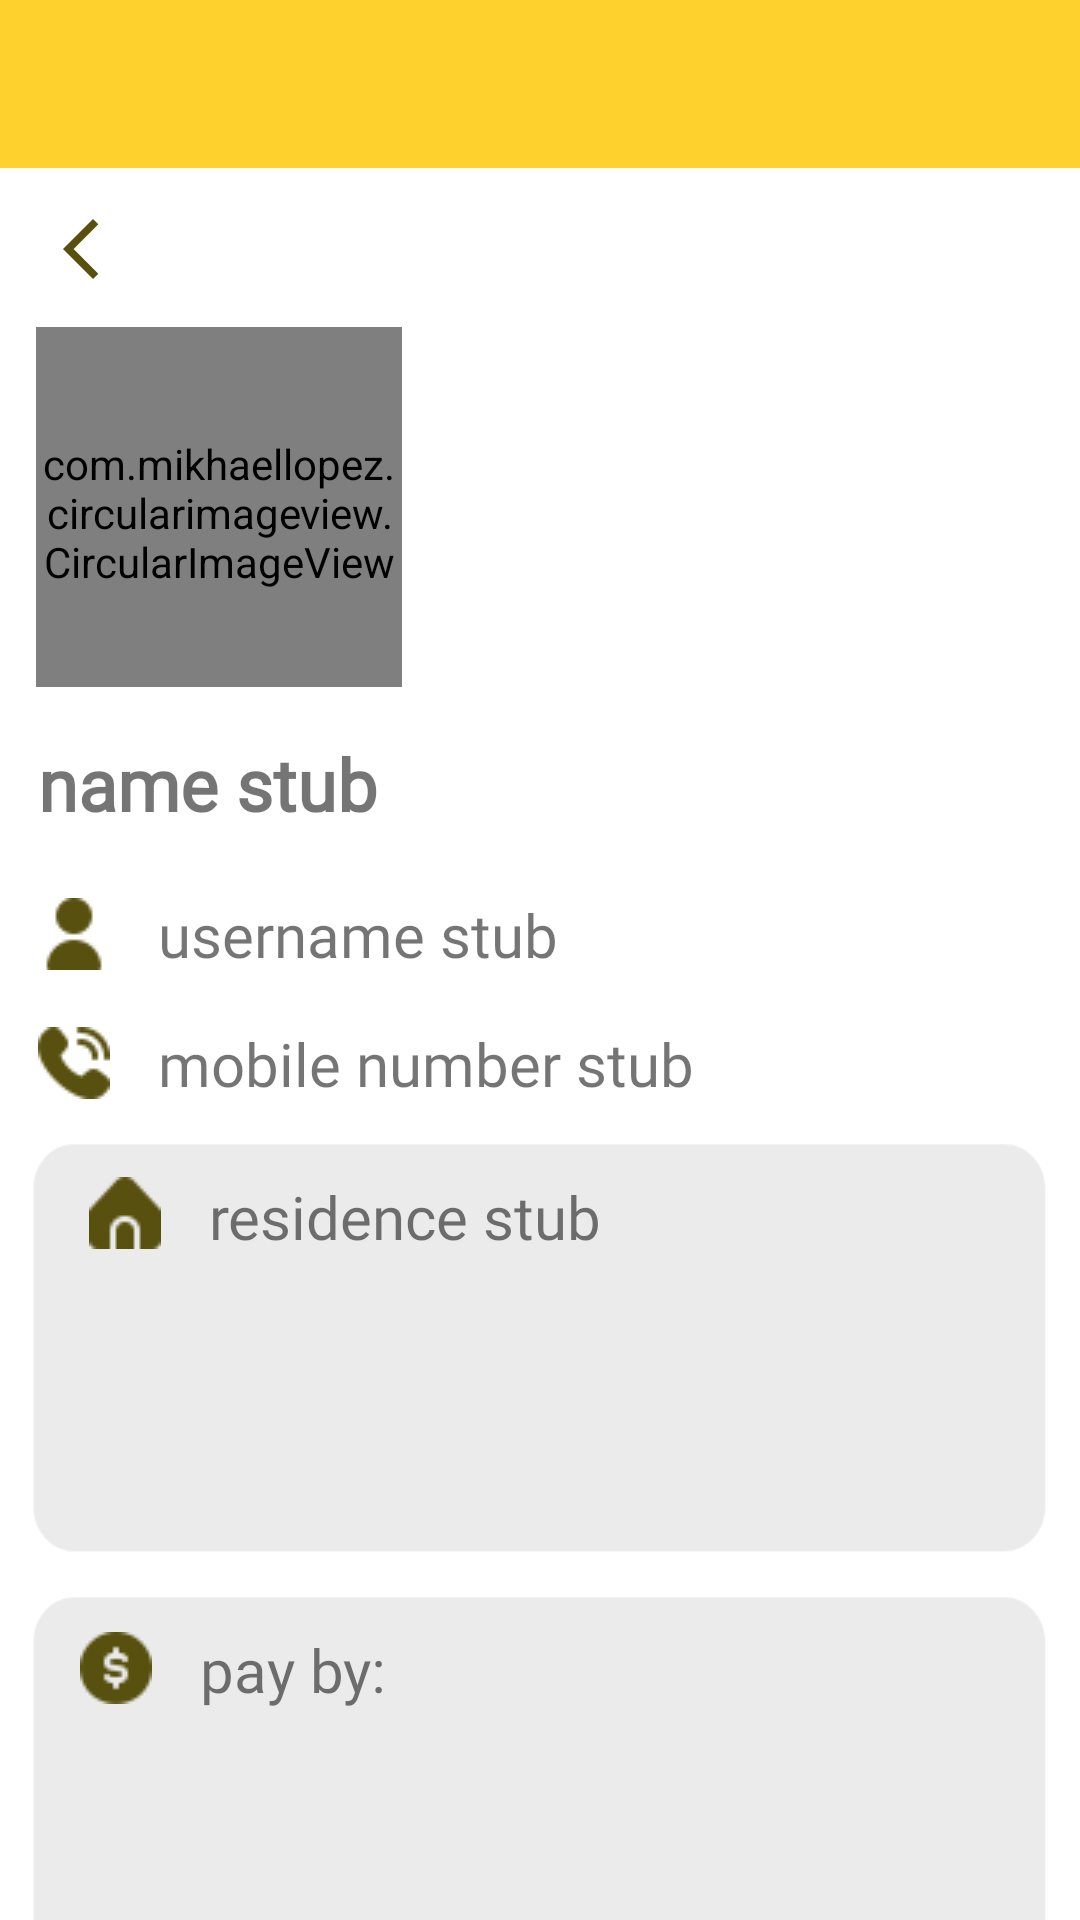

Named icons in this screenshot (1080px×1920px) and their centers, (x,y):
arrow back: (80,249)
